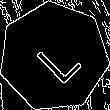L_NW: (25, 28, 82, 86)
